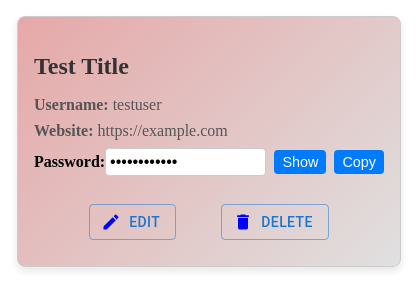
Test case: Card Component Tests › toggles password visibility
The image size is (419, 289).
Click the button "Show". click: x=300, y=162
box: [274,150,326,174]
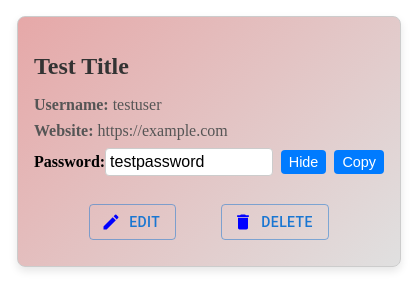
Expected: the field showing "testpassword" shows its text, [105,148,273,176]
Click the button "Hide". click: x=304, y=162
box: [281,150,326,174]
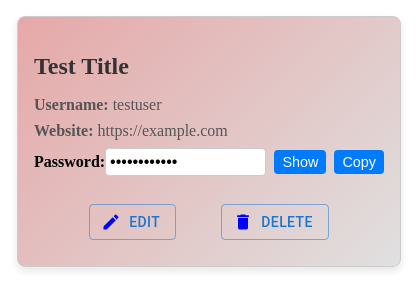
Expected: the password field showing "testpassword" hides its text, [105,148,266,176]
